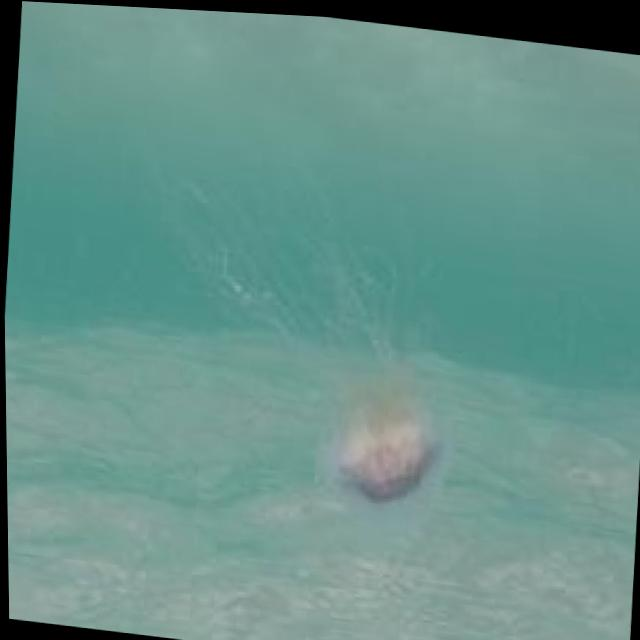Box-jellyfish: (330, 380, 448, 512)
